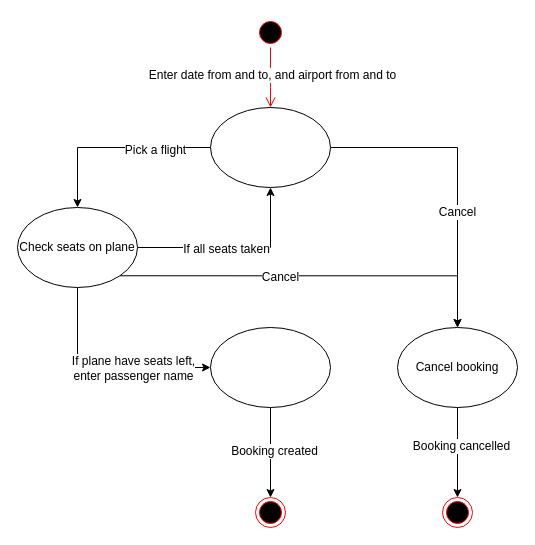
This 535x545 diagram has some shape labels left out. The centre of each missing label's shape, as x and y in pixels:
"Create booking" goes at pixel 270 367.
"Get flight schedule" goes at pixel 270 147.
